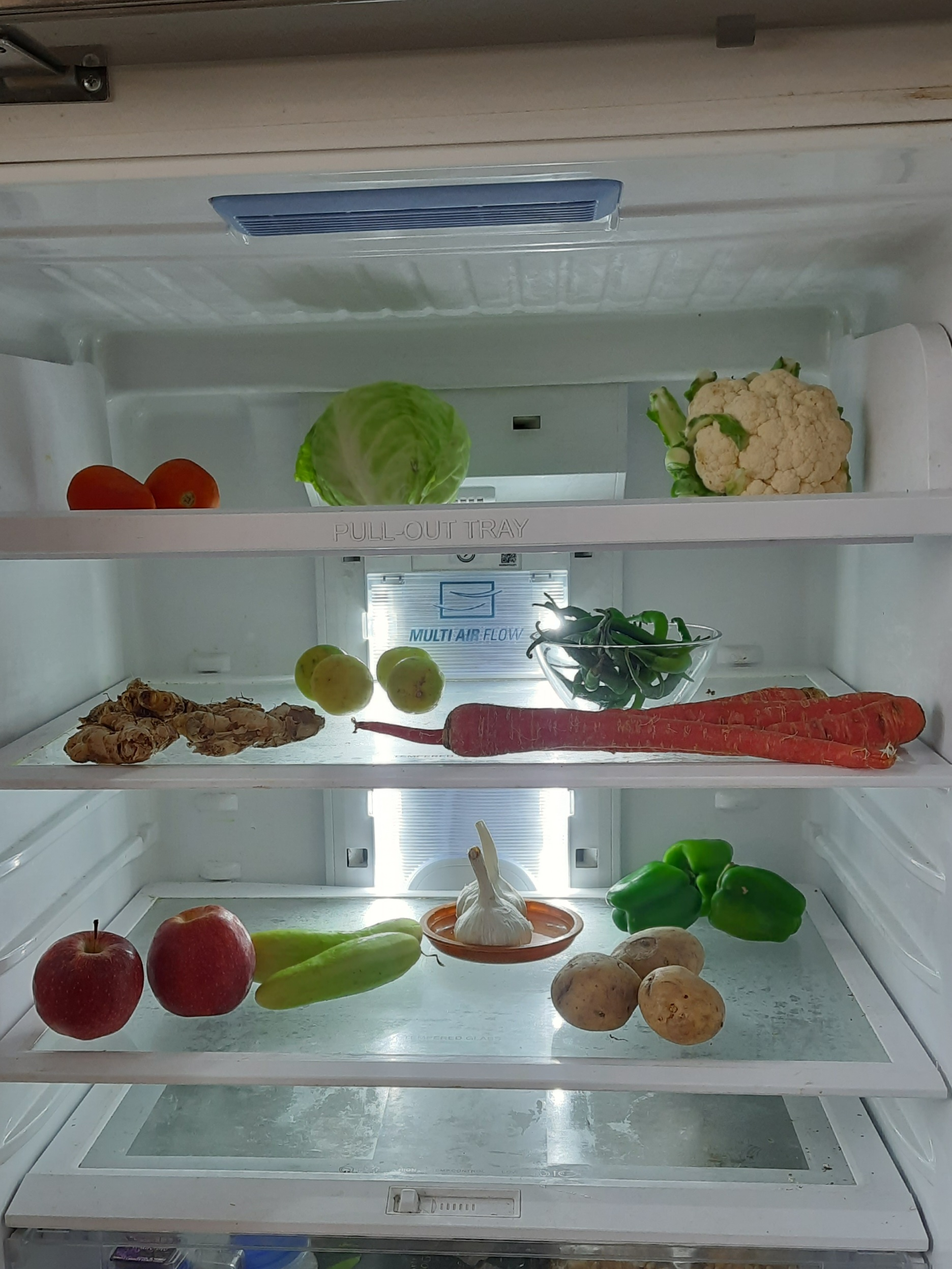apple: (29, 917, 142, 1042), (148, 901, 259, 1020)
cabbage: (291, 378, 473, 504)
capsicum: (598, 829, 802, 939)
carrots: (363, 708, 926, 801)
cauliflower: (650, 356, 856, 496)
chillies: (527, 595, 718, 700)
cucumber: (247, 923, 429, 1015)
garlic: (436, 821, 547, 946)
ginger: (64, 689, 323, 772)
lemon: (295, 642, 378, 714), (375, 642, 447, 714)
potato: (551, 920, 728, 1041)
tomato: (69, 458, 220, 512)
